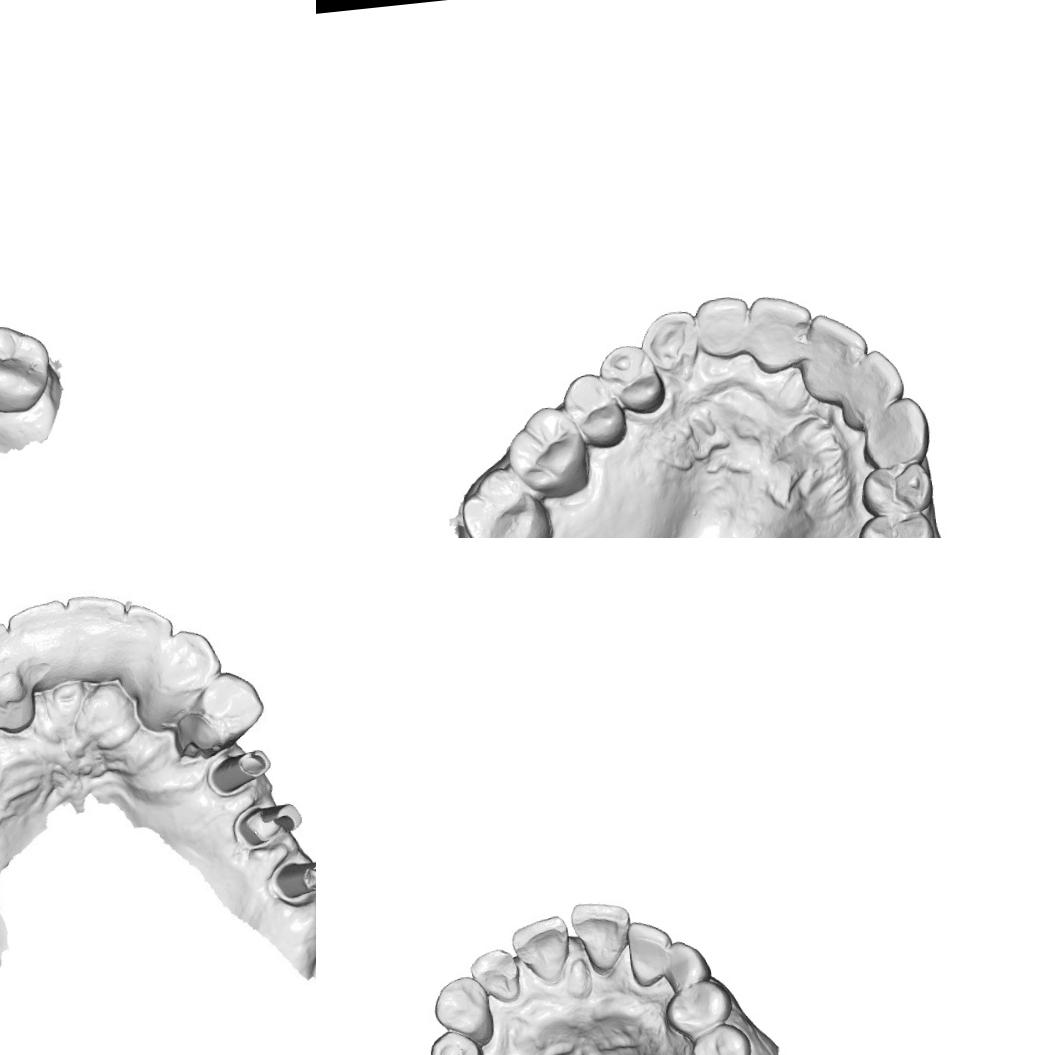abutment: (229, 794, 308, 854), (210, 748, 275, 794), (269, 849, 316, 911)
canine: (146, 626, 224, 707), (859, 392, 934, 470), (429, 972, 496, 1050), (637, 308, 698, 378), (663, 936, 713, 992)
incisor: (742, 290, 818, 375), (182, 673, 260, 750), (799, 309, 871, 383), (568, 898, 636, 975), (0, 590, 74, 657), (508, 912, 574, 985), (838, 346, 906, 413), (62, 587, 132, 650), (693, 293, 754, 361), (624, 916, 677, 990), (121, 598, 178, 658), (468, 946, 523, 1006), (0, 620, 20, 692)
molar: (498, 400, 594, 504), (456, 460, 557, 538), (0, 320, 56, 416)
premolar: (558, 368, 630, 452), (596, 337, 667, 418), (857, 458, 938, 523), (661, 977, 736, 1040), (854, 507, 935, 538), (685, 1021, 755, 1055), (426, 1027, 487, 1055)
